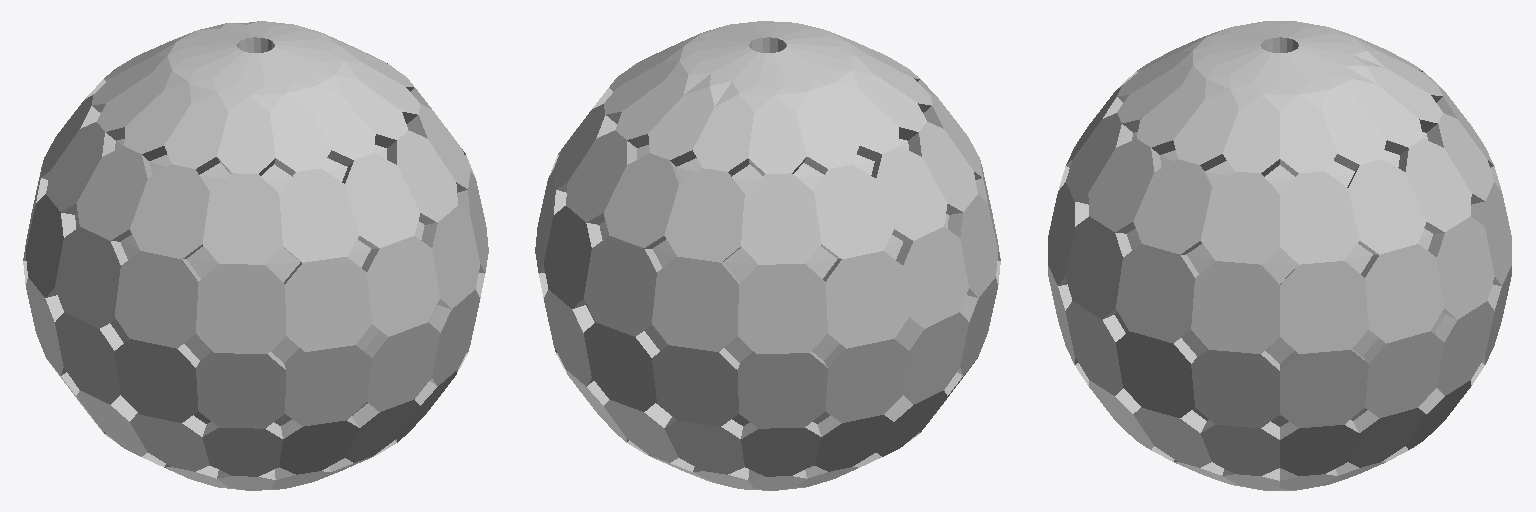
Rendered from enemy.obj.
3 views of the same model, side by side, from view 1: azimuth 30°, elevation 25°; view 2: azimuth 150°, elevation 25°; view 3: azimuth 270°, elevation 25° (orthographic).
Visible parts, largest first — view 1: Sphere001; view 2: Sphere001; view 3: Sphere001.
Part boxes in pixels (x1,y1,x2,y2): Sphere001: (23,21,488,490); Sphere001: (535,21,1000,490); Sphere001: (1048,21,1511,490).
Bounding box in the file's own units: 65.47 × 65.47 × 65.47.